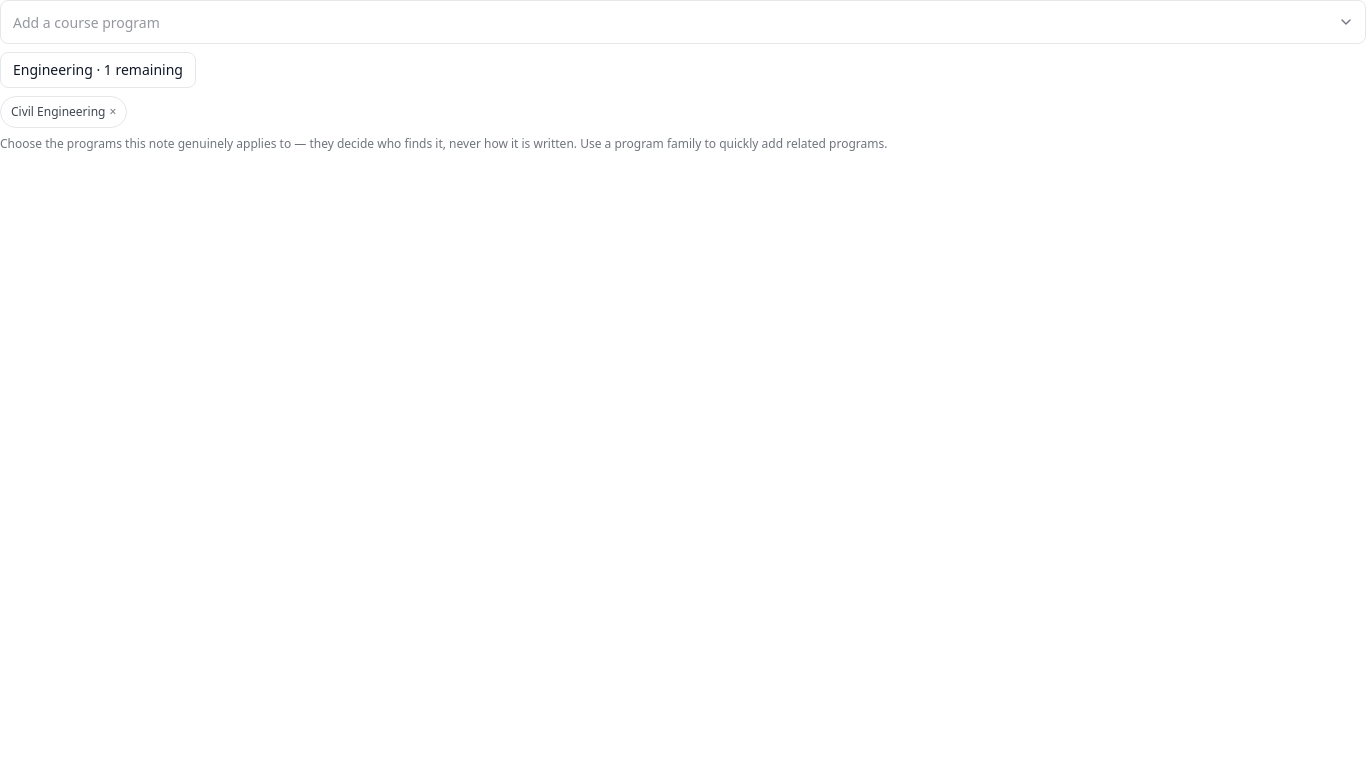
Test: ApplicableProgramsCombobox › keeps typed text and current selections after a failed create
Type "Chemical Engineering" into the field named "Add a course or program" at (683, 22), box [0,0,1365,44]
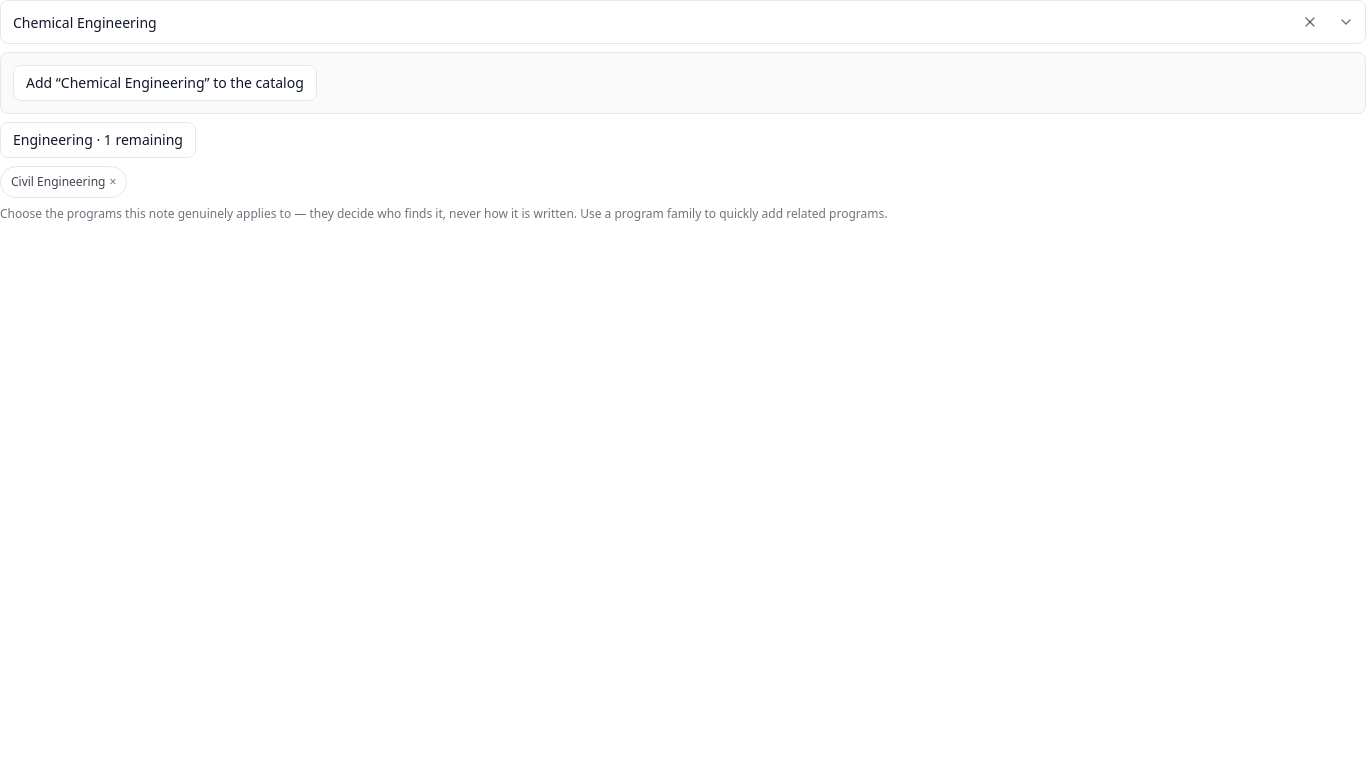
Click the button "Add “Chemical Engineering” to the catalog" at (165, 83), box [13,65,317,101]
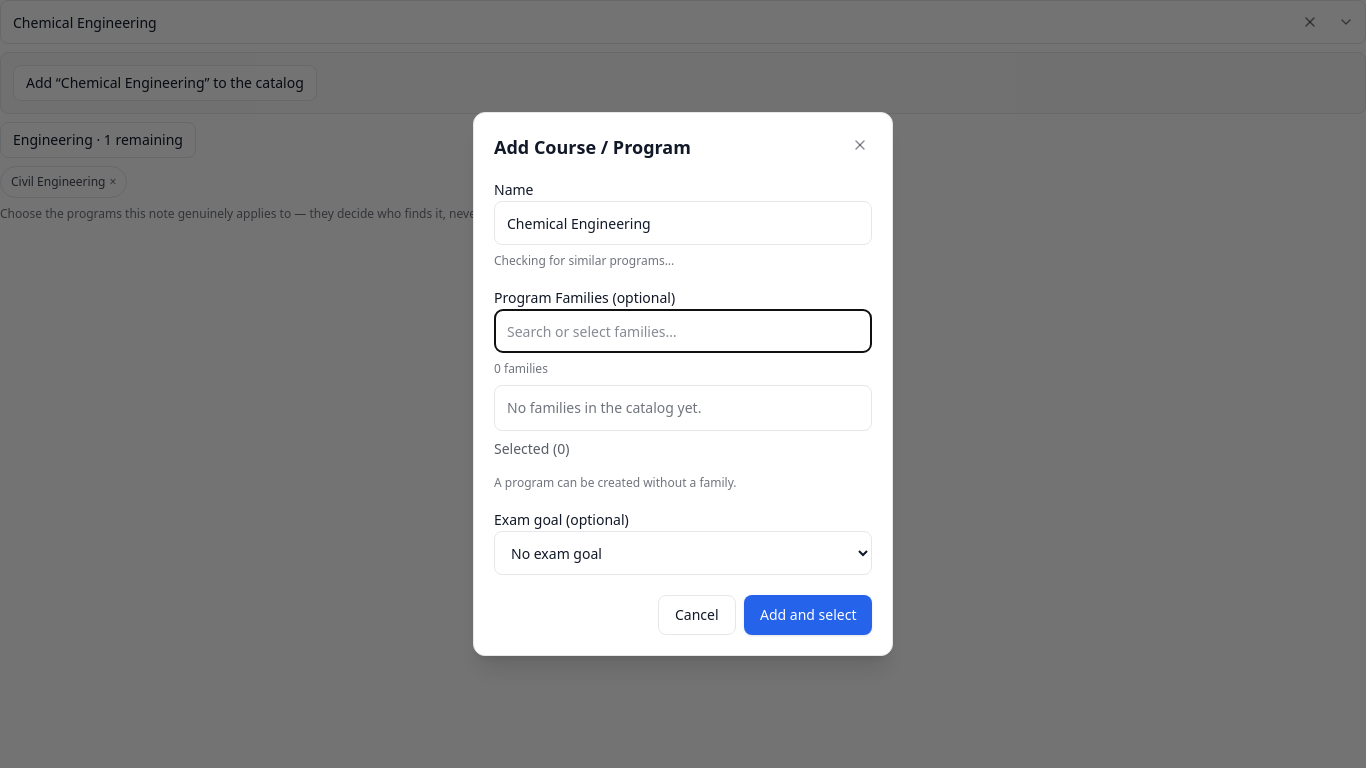
Click the button "Add and select" at (808, 615), box [744,595,872,635]
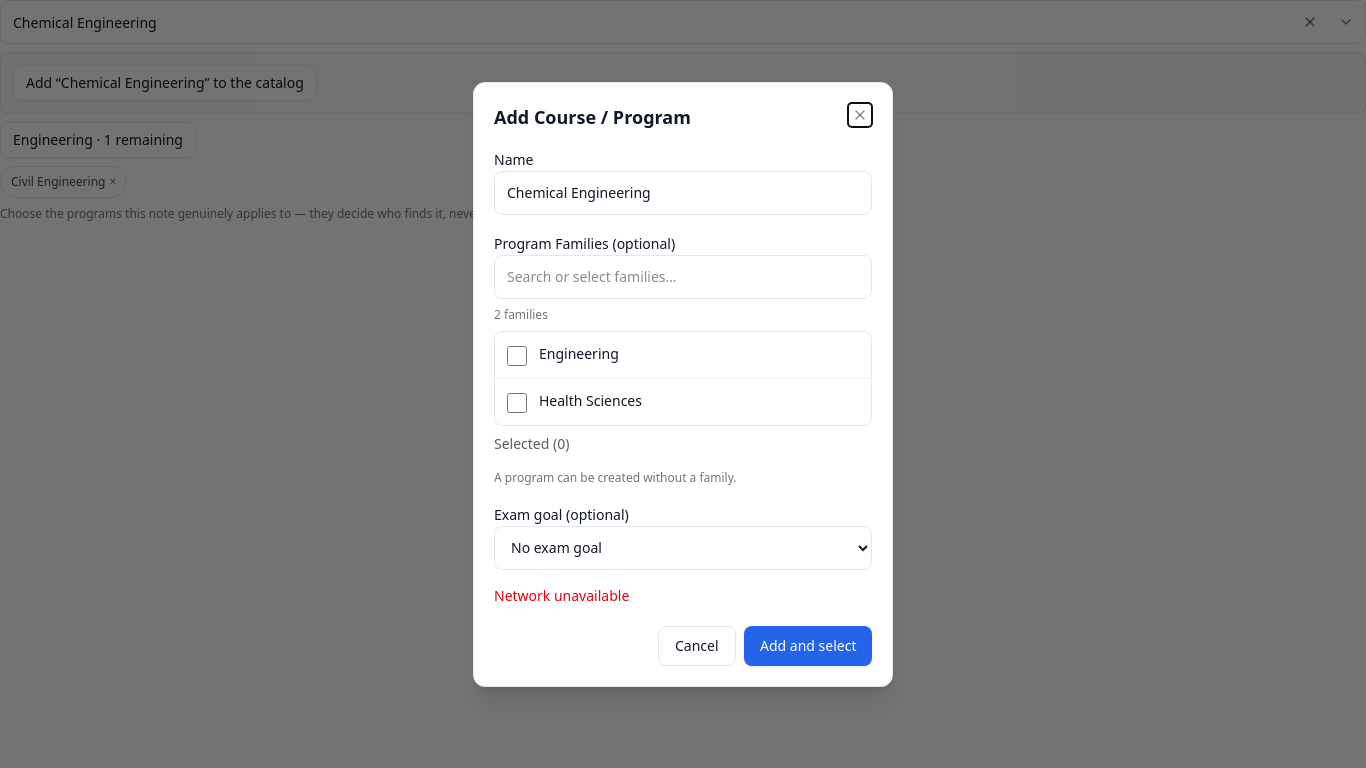
Expected: the button named "Remove Civil Engineering" is shown, [110,174,116,190]
Expected: the text "Network unavailable" is shown, [494,586,629,604]
